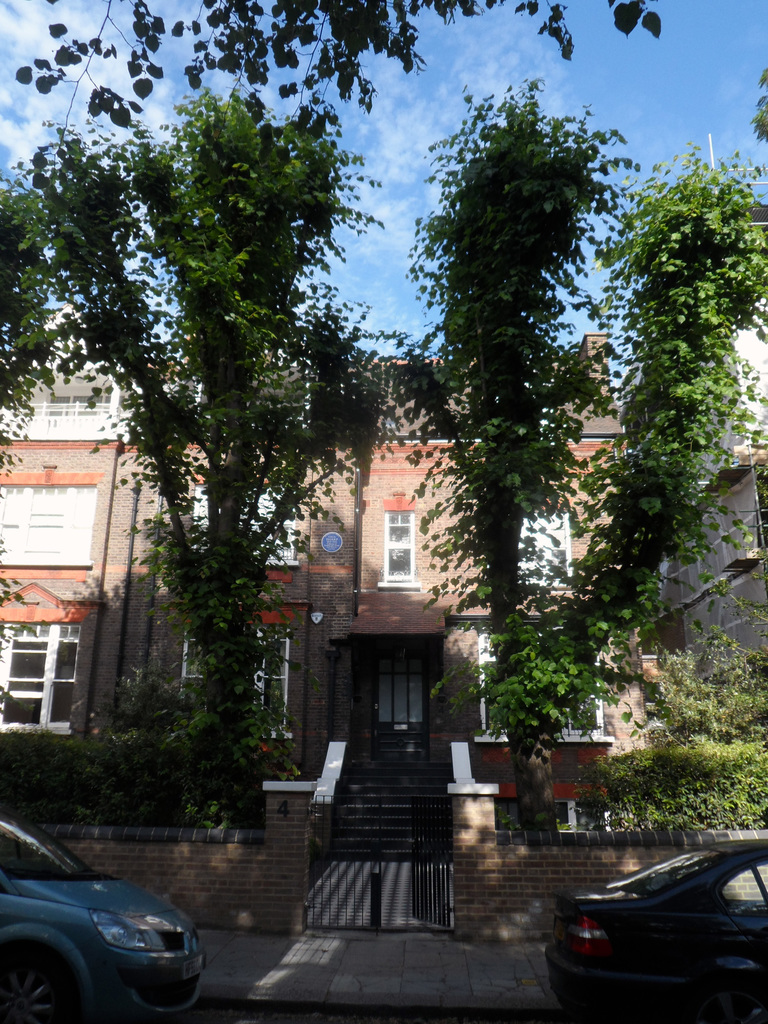Car: (0, 802, 204, 1020), (536, 844, 767, 1023)
